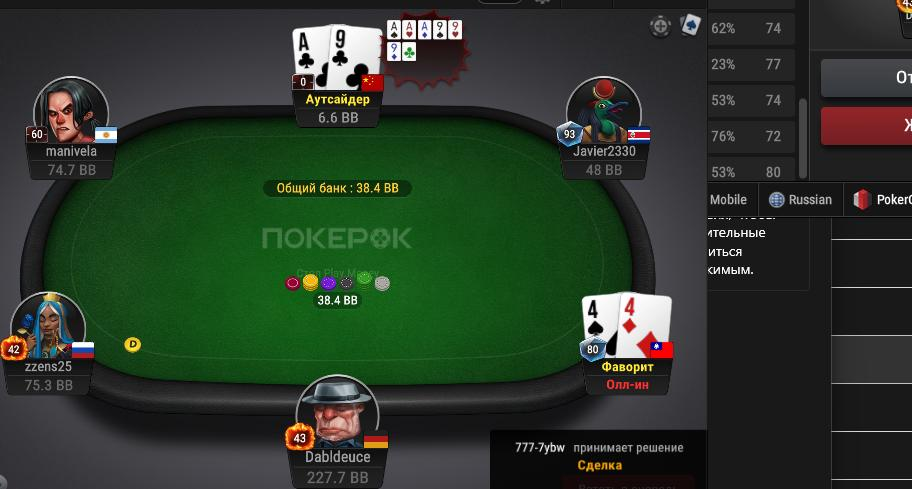4d: (619, 294, 672, 359)
4s: (581, 295, 620, 358)
9c: (329, 25, 381, 92)
Ac: (293, 27, 331, 91)
